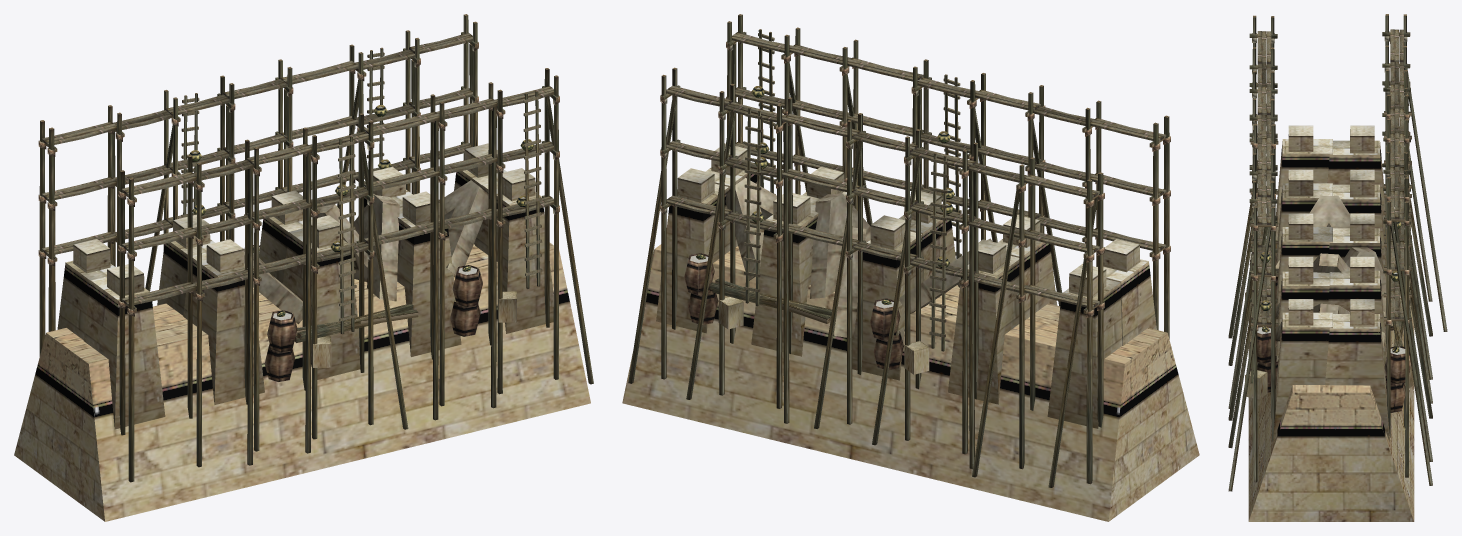
The model's file is scaffold_up_cart_wall_long.glb.
3 views of the same model, side by side, from view 1: azimuth 30°, elevation 25°; view 2: azimuth 150°, elevation 25°; view 3: azimuth 270°, elevation 25° (orthographic). The views are drawn at different scales.
Parts seen in each view (by area): view 1: scaffold_up_cart_wall_long_part0; view 2: scaffold_up_cart_wall_long_part0; view 3: scaffold_up_cart_wall_long_part0.
Part boxes in pixels (x1,y1,x2,y2): scaffold_up_cart_wall_long_part0: [14, 14, 593, 521]; scaffold_up_cart_wall_long_part0: [622, 14, 1199, 521]; scaffold_up_cart_wall_long_part0: [1228, 14, 1447, 521].
Size of the model in its own units: 7.8 by 5.12 by 3.35.
Materials: 1 (1 with a texture image).
